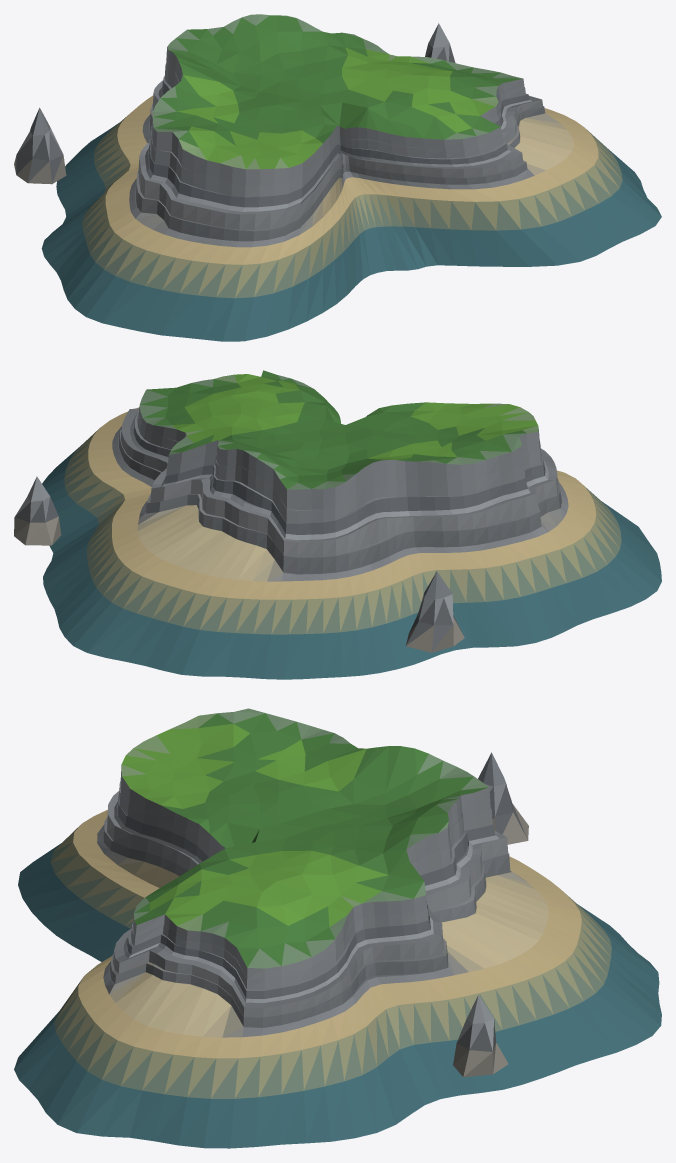
File: devlog.glb
The picture shows the model from 3 angles, top to bottom: view 1: azimuth 30°, elevation 25°; view 2: azimuth 150°, elevation 25°; view 3: azimuth 270°, elevation 25°; orthographic projection. The views are drawn at different scales.
Parts seen in each view (by area): view 1: devlog; view 2: devlog; view 3: devlog.
Part boxes in pixels (<box>): devlog: <box>14,14,661,341</box>; devlog: <box>14,370,661,679</box>; devlog: <box>14,708,661,1148</box>.
Size of the model in its own units: 59.82 by 15.72 by 49.39.
